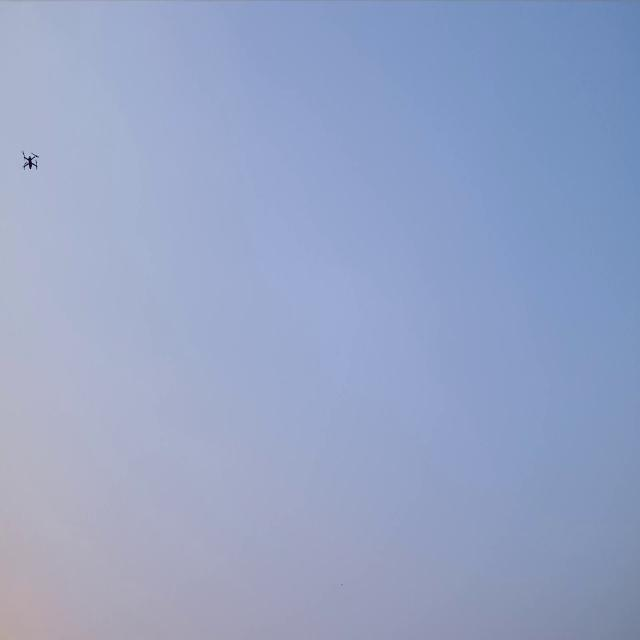UAV: (20, 148, 40, 171)
